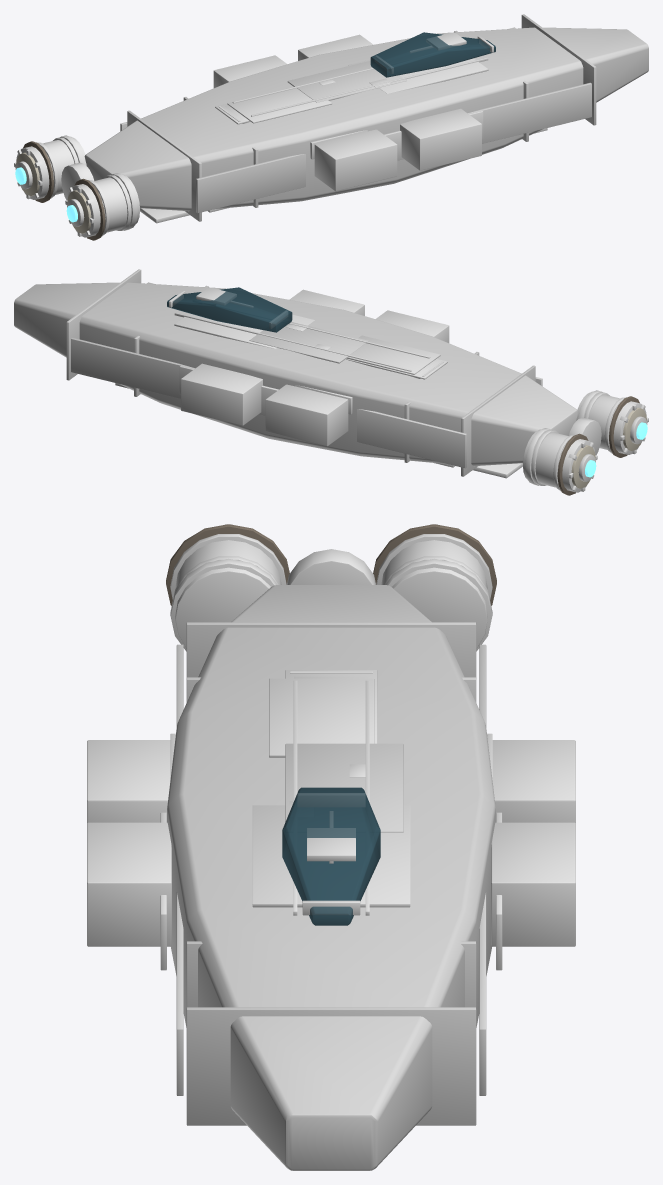
Rendered from ore_barge_production_v1_lod1.glb.
3 renders of one model, top to bottom at view 1: azimuth 30°, elevation 25°; view 2: azimuth 150°, elevation 25°; view 3: azimuth 270°, elevation 25°, orthographic. The views are drawn at different scales.
Parts seen in each view (by area): view 1: LOD1_Hull, LOD1_Armor, LOD1_Mechanical, LOD1_Canopy, LOD1_Ceramic, LOD1_Radiator; view 2: LOD1_Hull, LOD1_Armor, LOD1_Mechanical, LOD1_Canopy, LOD1_Ceramic, LOD1_Radiator; view 3: LOD1_Hull, LOD1_Armor, LOD1_Mechanical, LOD1_Canopy, LOD1_Radiator.
Part boxes in pixels (<box>): LOD1_Hull: <box>84,14,648,221</box>; LOD1_Armor: <box>36,32,493,236</box>; LOD1_Mechanical: <box>14,57,488,237</box>; LOD1_Canopy: <box>370,32,495,77</box>; LOD1_Ceramic: <box>15,152,91,233</box>; LOD1_Radiator: <box>23,141,105,240</box>; LOD1_Hull: <box>14,269,578,476</box>; LOD1_Armor: <box>169,287,626,491</box>; LOD1_Mechanical: <box>174,312,648,492</box>; LOD1_Canopy: <box>167,287,292,332</box>; LOD1_Ceramic: <box>571,407,647,488</box>; LOD1_Radiator: <box>557,396,639,495</box>; LOD1_Hull: <box>167,585,495,1170</box>; LOD1_Armor: <box>87,534,575,970</box>; LOD1_Mechanical: <box>175,524,487,915</box>; LOD1_Canopy: <box>282,787,380,925</box>; LOD1_Radiator: <box>166,524,496,605</box>.
Size of what is drawn, in the model's own units: 19.98 by 3.35 by 7.14.
